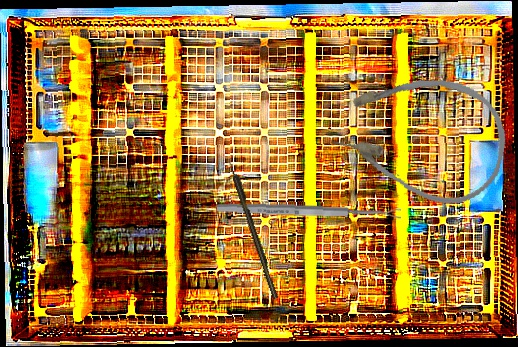Cannula: (323, 56, 518, 216)
Hook Surgical: (226, 155, 279, 300)
Surgical Spoon: (216, 201, 402, 221)
